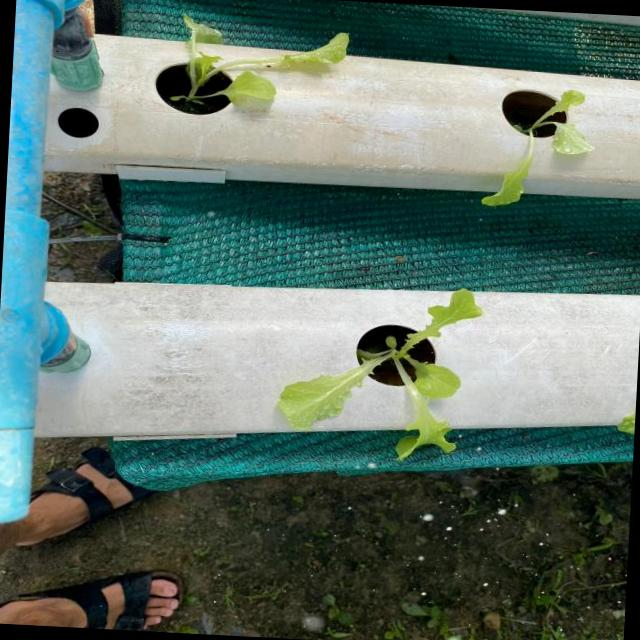Lettuce-Not-Ready-to-Harvest: (278, 290, 482, 459), (173, 15, 349, 109), (481, 90, 593, 206)
